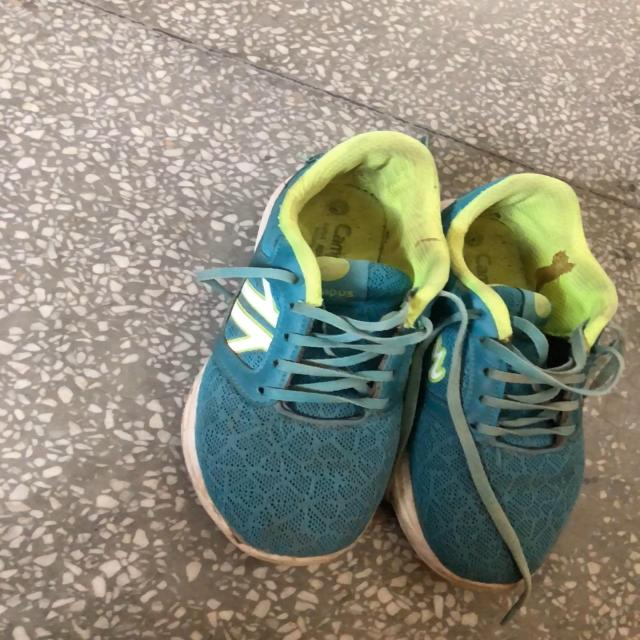shoe: (180, 133, 452, 565), (392, 174, 624, 593)
